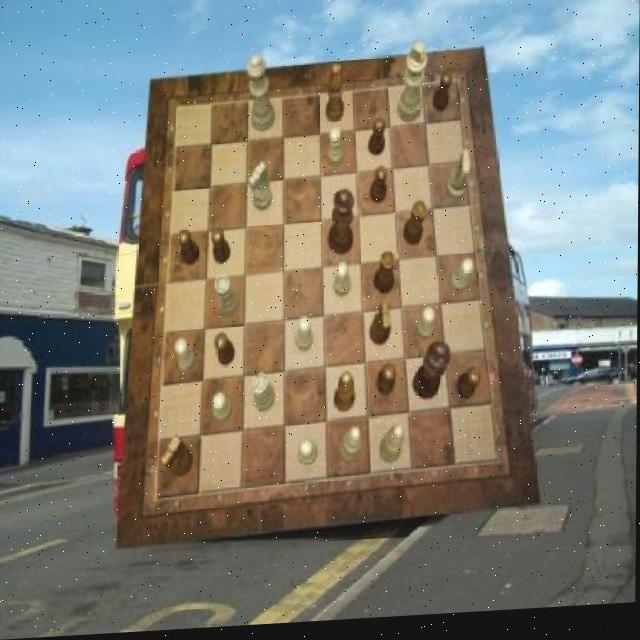bishop: (327, 67, 345, 126), (334, 376, 356, 417)
black-bishop: (415, 345, 453, 404)
black-king: (162, 438, 195, 480), (370, 306, 393, 350)
black-knight: (458, 373, 482, 406), (180, 229, 200, 268), (212, 229, 232, 268), (433, 77, 452, 118), (215, 333, 236, 368), (368, 122, 386, 161), (378, 369, 398, 403), (371, 171, 388, 208)
black-pawn: (329, 193, 356, 260)
black-queen: (404, 205, 428, 251), (373, 255, 396, 299)
black-rook: (380, 429, 405, 468), (340, 431, 363, 468)
white-bishop: (399, 45, 429, 128)
white-king: (446, 155, 470, 207), (249, 164, 273, 214)
white-knight: (450, 264, 474, 299), (175, 340, 196, 376), (416, 312, 437, 345), (328, 130, 345, 168), (213, 394, 233, 425), (335, 265, 352, 301), (297, 321, 314, 356), (299, 442, 318, 469)
white-pawn: (247, 56, 277, 135)
white-queen: (215, 278, 240, 319), (253, 376, 276, 416)
